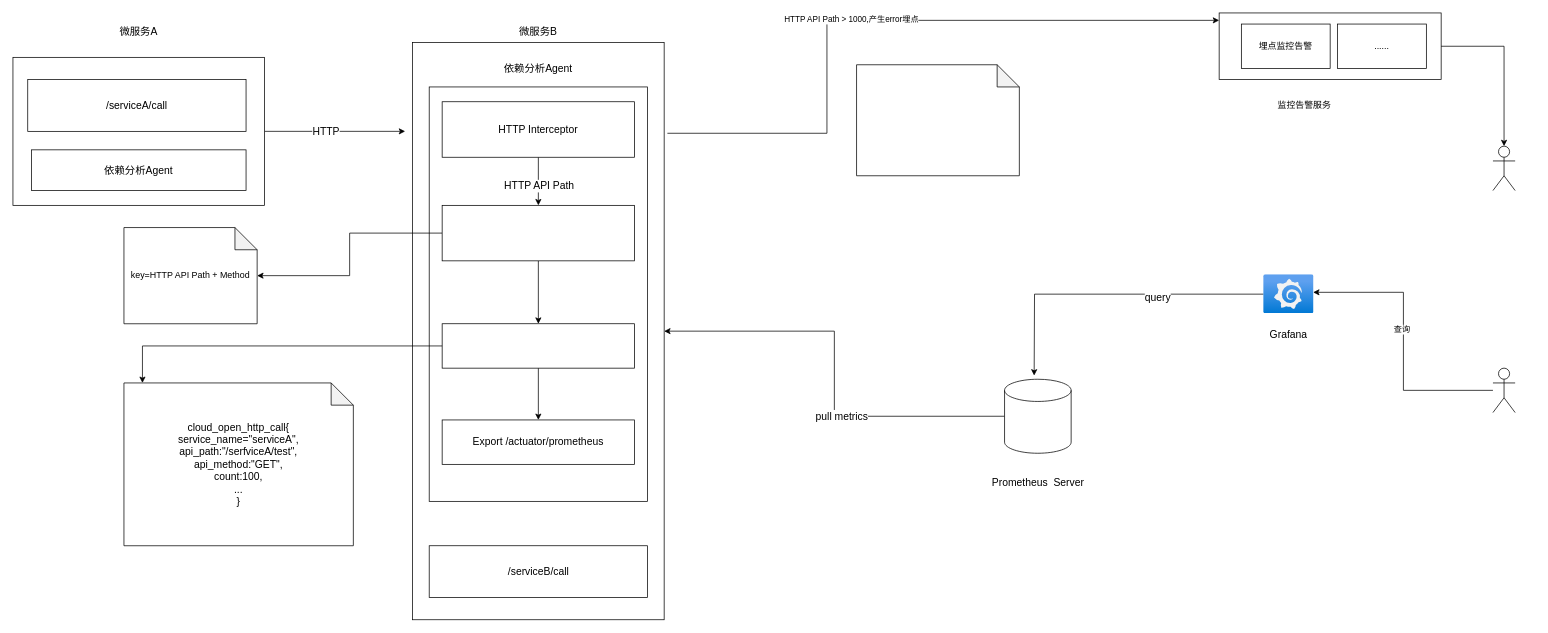
Image size: 1548x633. Some labels were removed from this diagram. The shapes that lost their labels are listed below. From the top down, each one's centre as x and y in pixels, then its label:
(x=937, y=120): cloud_open_http_call_error{ service_name="serviceA }
(x=1503, y=168): 云开平台负责人
(x=538, y=233): Guava Bloom Filter Cache
(x=538, y=345): API Call Micrometer Counter Increment
(x=1503, y=390): 微服务开发者
